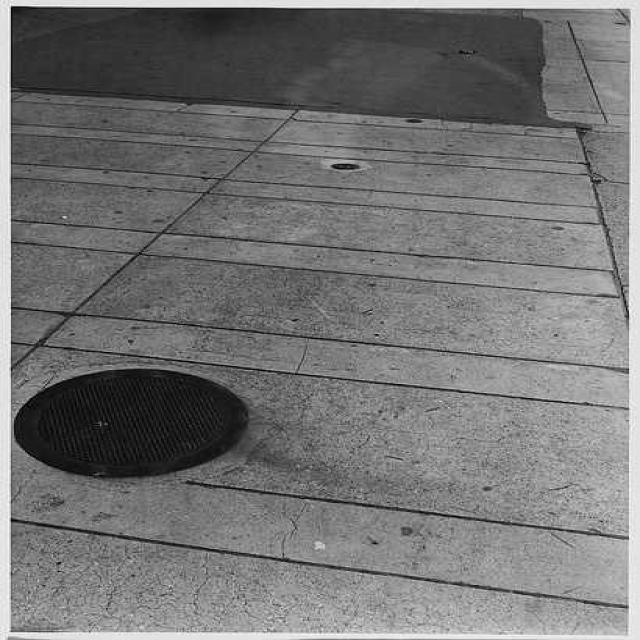manhole: (14, 367, 250, 480)
